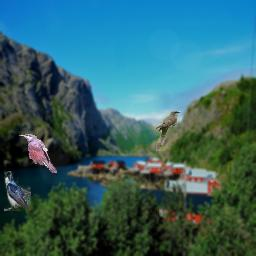Cuckoo: (19, 134, 57, 174), (156, 111, 181, 151)
Swallow: (4, 171, 31, 211)
